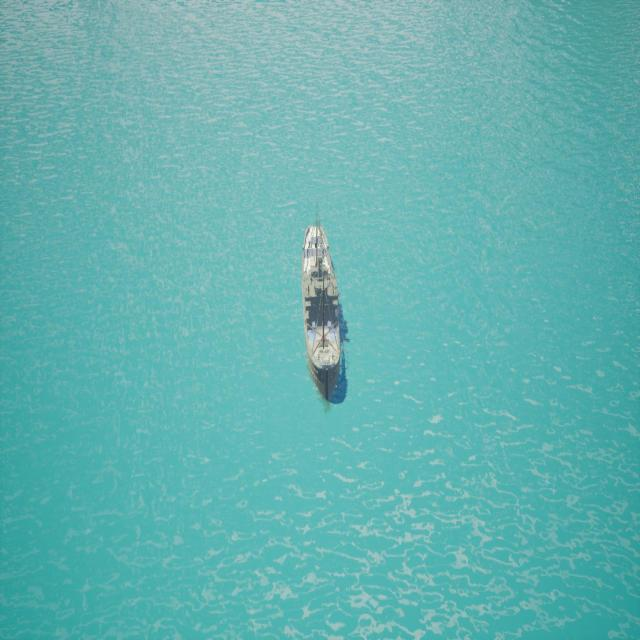fishing ship: (302, 222, 346, 410)
